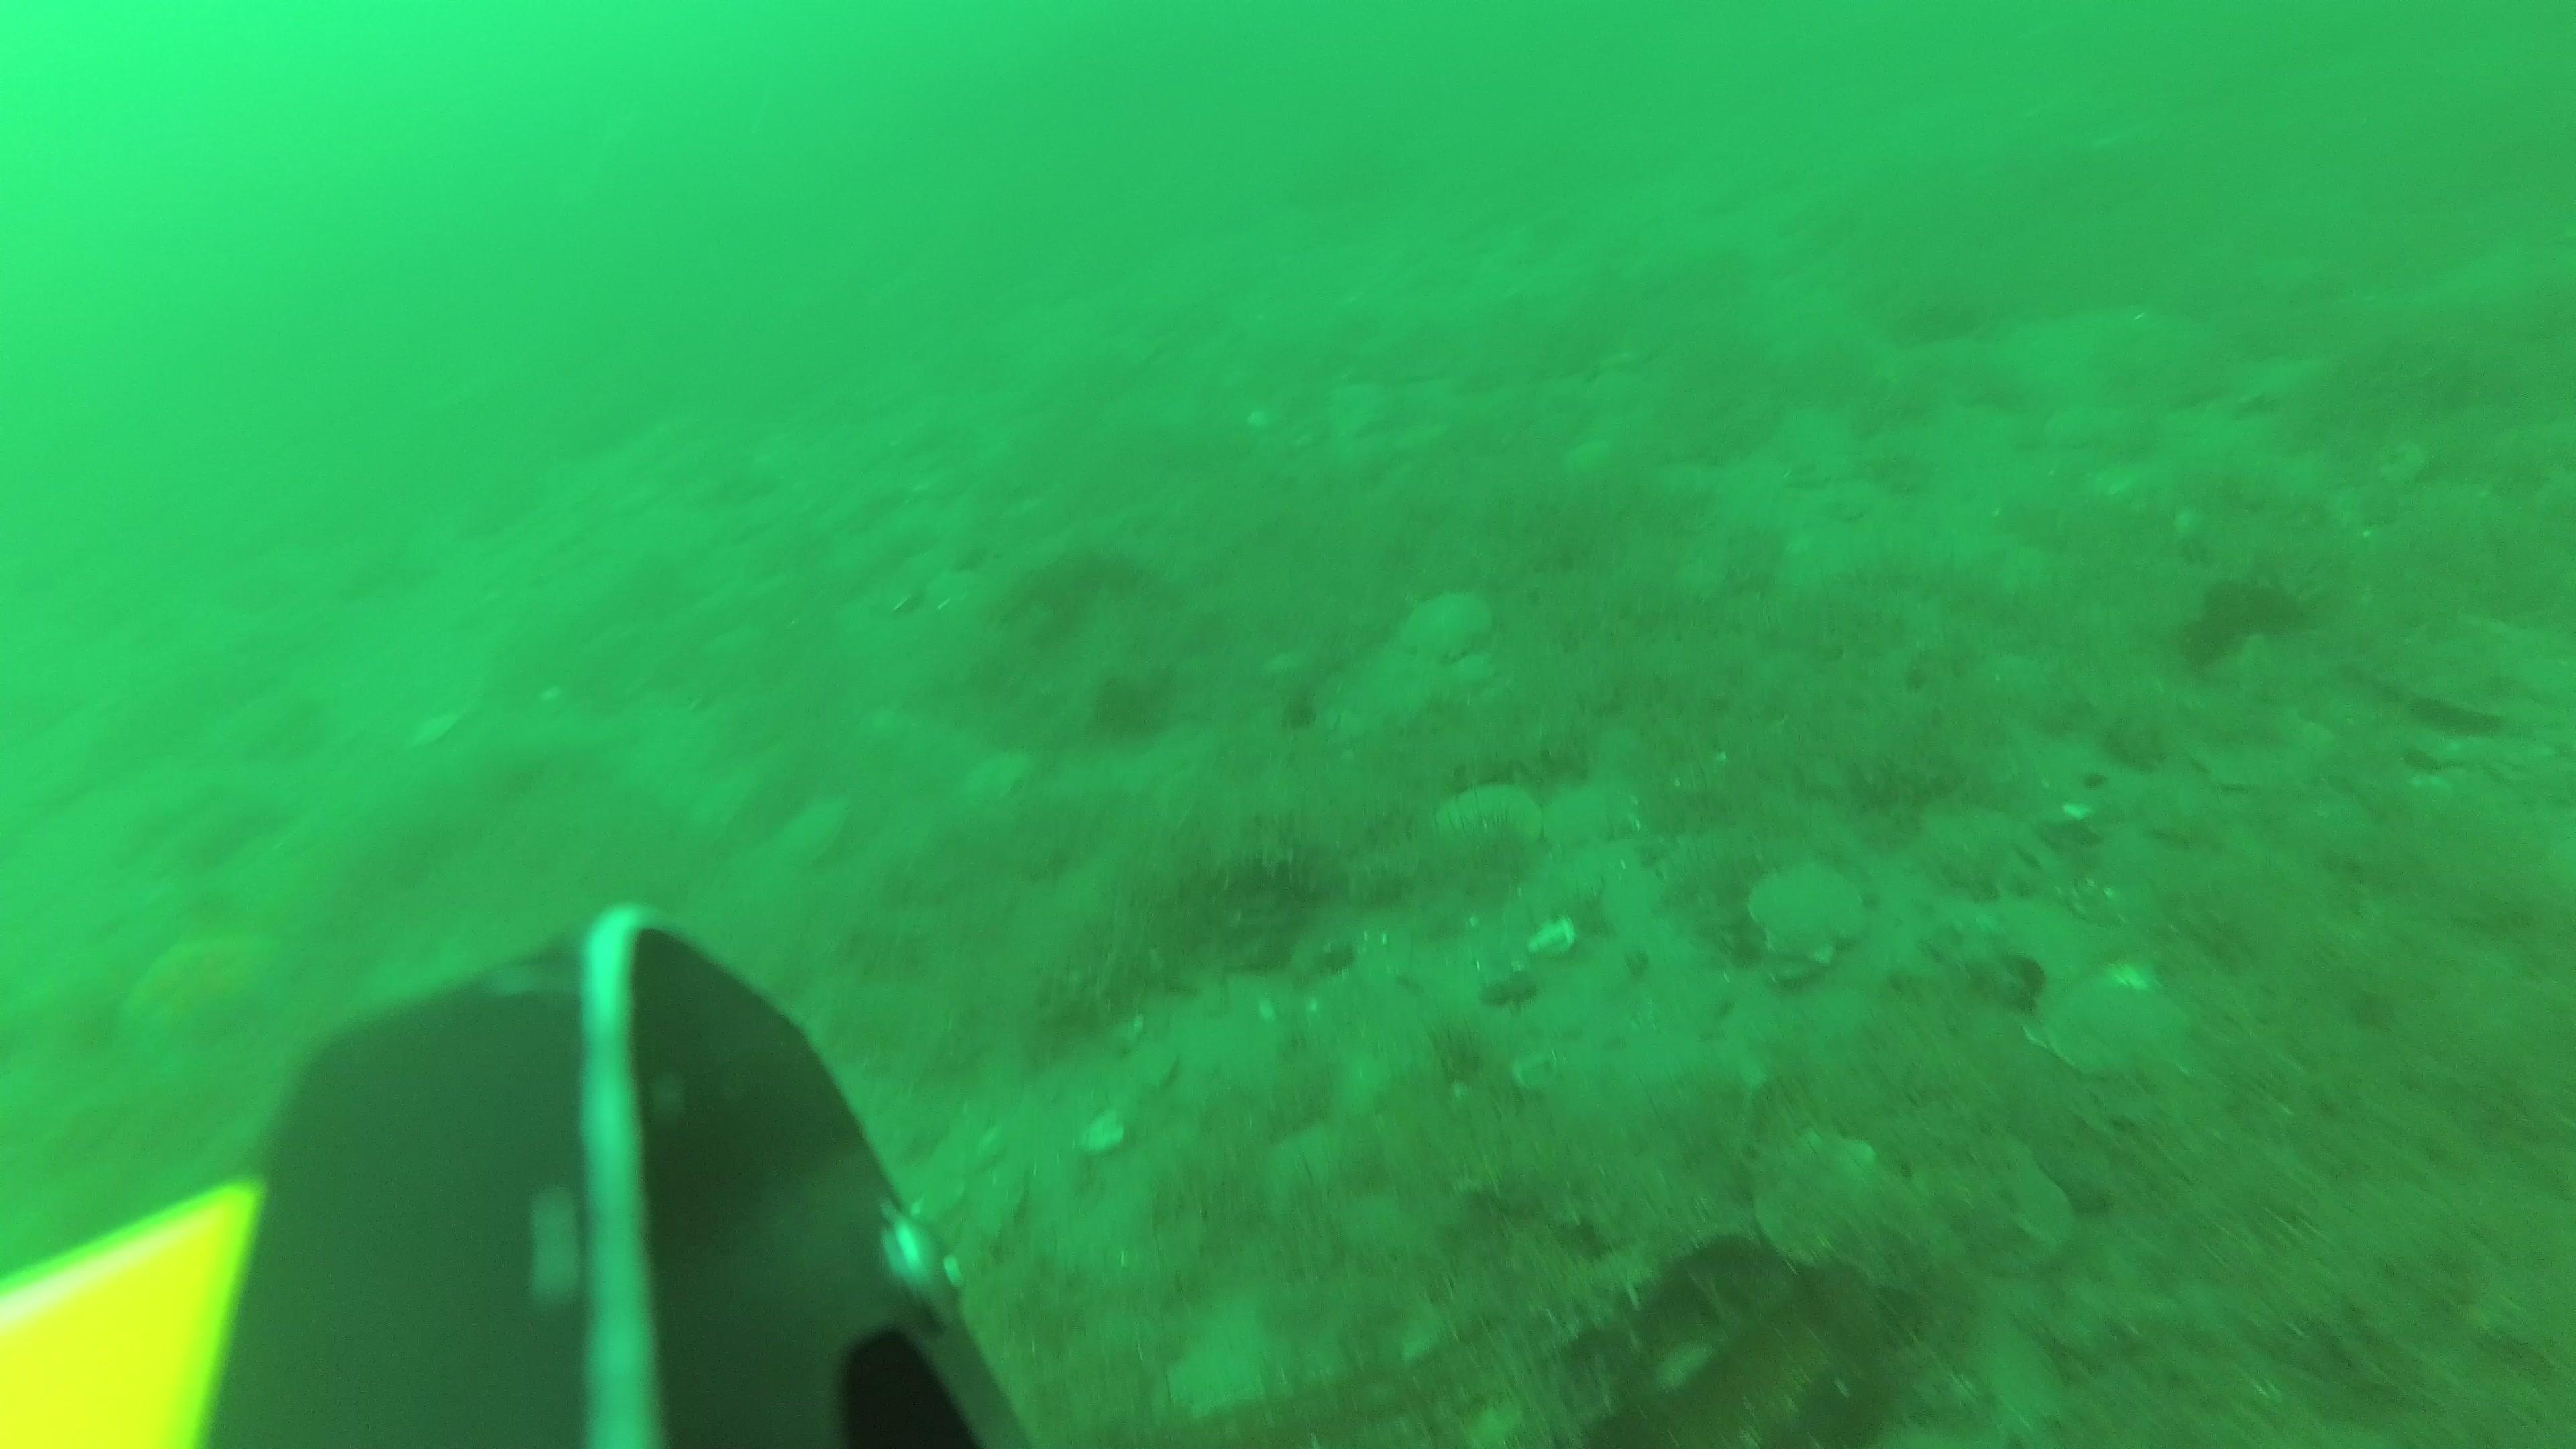scallop: (1913, 1122, 2079, 1283), (1752, 1125, 1888, 1279), (2028, 971, 2194, 1086), (2185, 699, 2344, 800), (1746, 853, 1870, 971), (1437, 780, 1546, 863), (1407, 586, 1502, 669), (778, 796, 853, 870), (962, 747, 1035, 816)
starfish: (104, 927, 297, 1076)
